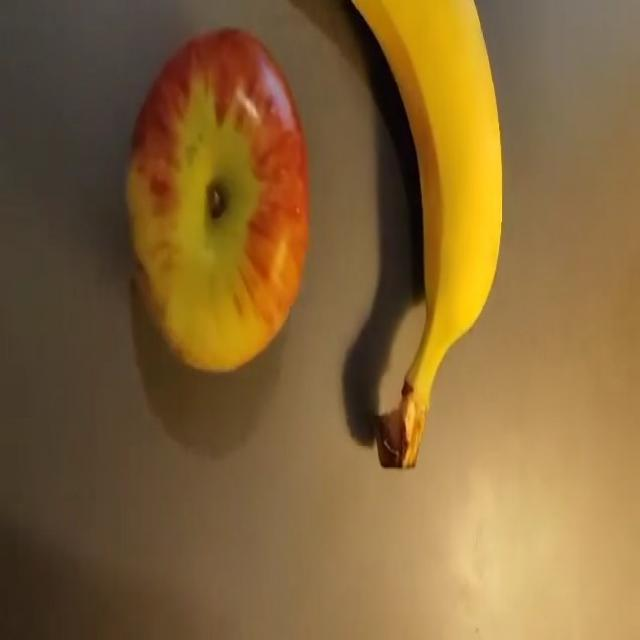Apple: (125, 25, 310, 373)
Banana: (322, 0, 530, 484)
